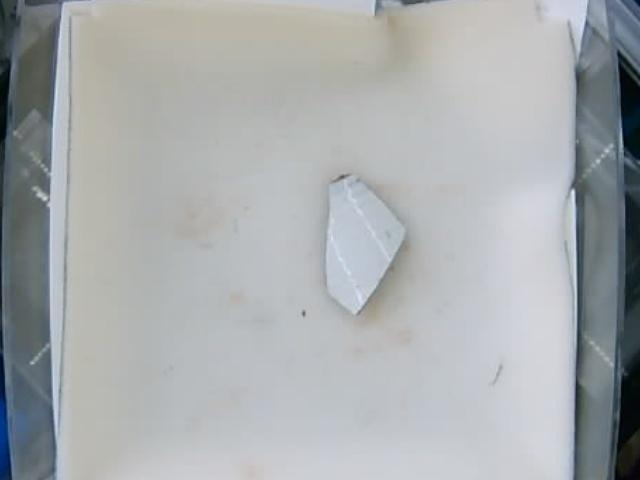China: (323, 172, 407, 315)
